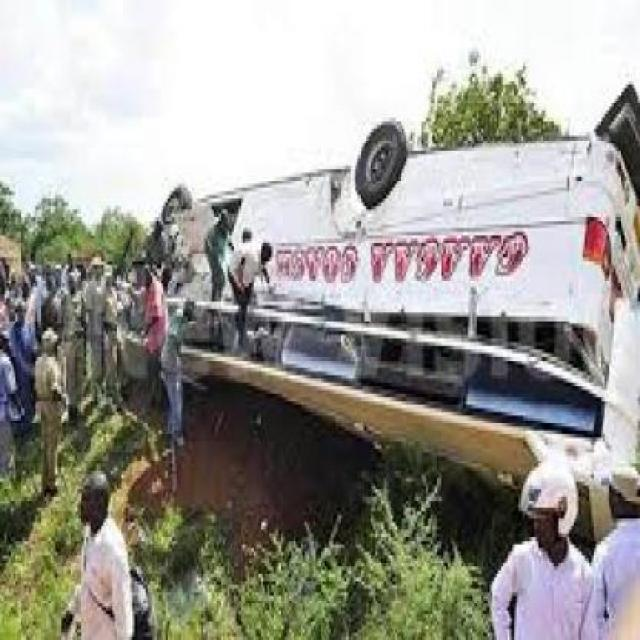accident: (111, 121, 640, 498)
